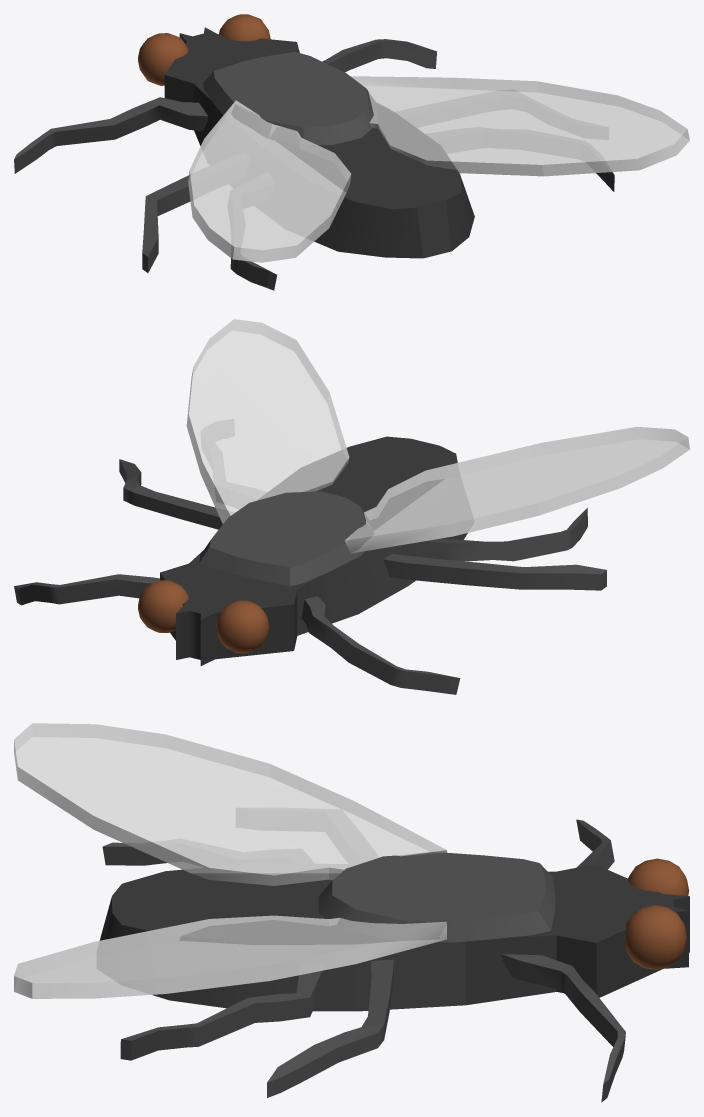
File: Fly.fbx
The picture shows the model from 3 angles, top to bottom: view 1: azimuth 30°, elevation 25°; view 2: azimuth 150°, elevation 25°; view 3: azimuth 270°, elevation 25°; orthographic projection. The views are drawn at different scales.
Visible parts, largest first — view 1: kanat, kanat2, Sinek_iskelet, kanat1, kanat3, Orta_yuvarlak, Ayak3, Ayak, ayak1, göz1, göz, Ayak2; view 2: kanat, kanat2, Sinek_iskelet, kanat1, kanat3, Orta_yuvarlak, ayak1, Ayak3, Ayak2, Ayak, ayak, göz1 (+1 smaller); view 3: kanat1, kanat3, Sinek_iskelet, kanat, kanat2, Orta_yuvarlak, Ayak1, ayak, Ayak, göz, göz1, Ayak3 (+1 smaller).
Boxes of the visible parts, left/top/right/bottom form: kanat: left=351, top=76, right=689, bottom=176; kanat2: left=351, top=76, right=689, bottom=175; Sinek_iskelet: left=164, top=27, right=474, bottom=258; kanat1: left=188, top=100, right=351, bottom=262; kanat3: left=188, top=100, right=350, bottom=262; Orta_yuvarlak: left=203, top=52, right=377, bottom=145; Ayak3: left=14, top=97, right=208, bottom=173; Ayak: left=322, top=39, right=437, bottom=72; ayak1: left=142, top=175, right=190, bottom=272; göz1: left=138, top=33, right=188, bottom=85; göz: left=219, top=14, right=270, bottom=41; Ayak2: left=230, top=258, right=277, bottom=290; kanat: left=186, top=319, right=349, bottom=523; kanat2: left=187, top=319, right=348, bottom=523; Sinek_iskelet: left=160, top=436, right=467, bottom=665; kanat1: left=345, top=426, right=689, bottom=553; kanat3: left=345, top=427, right=689, bottom=552; Orta_yuvarlak: left=199, top=491, right=373, bottom=586; ayak1: left=383, top=554, right=606, bottom=590; Ayak3: left=301, top=596, right=460, bottom=694; Ayak2: left=412, top=507, right=587, bottom=561; Ayak: left=14, top=574, right=159, bottom=605; ayak: left=119, top=459, right=222, bottom=529; göz1: left=216, top=600, right=268, bottom=653; kanat1: left=14, top=723, right=446, bottom=885; kanat3: left=14, top=723, right=446, bottom=885; Sinek_iskelet: left=99, top=864, right=689, bottom=1011; kanat: left=14, top=915, right=446, bottom=998; kanat2: left=14, top=916, right=446, bottom=998; Orta_yuvarlak: left=318, top=852, right=555, bottom=942; Ayak1: left=120, top=970, right=324, bottom=1060; ayak: left=267, top=959, right=393, bottom=1097; Ayak: left=501, top=954, right=625, bottom=1102; göz: left=625, top=905, right=686, bottom=969; göz1: left=628, top=858, right=688, bottom=895; Ayak3: left=576, top=819, right=614, bottom=869.
Size of the model in its own units: 3.51 by 0.7582 by 3.57.
